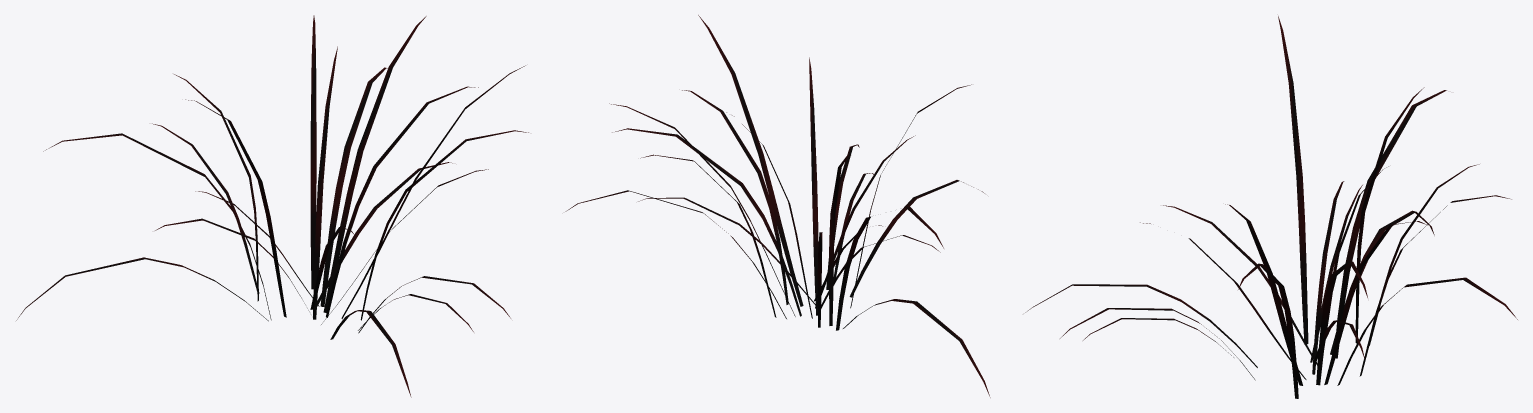
The model's file is Grass02D.fbx.
The picture shows the model from 3 angles, left to right: view 1: azimuth 30°, elevation 25°; view 2: azimuth 150°, elevation 25°; view 3: azimuth 270°, elevation 25°; orthographic projection. The views are drawn at different scales.
Parts seen in each view (by area): view 1: Grass02D; view 2: Grass02D; view 3: Grass02D.
Part boxes in pixels (x1,y1,x2,y2): Grass02D: (16,15,528,397); Grass02D: (565,15,990,397); Grass02D: (1025,16,1517,398).
Bounding box in the file's own units: 2 × 1.2 × 1.89.
